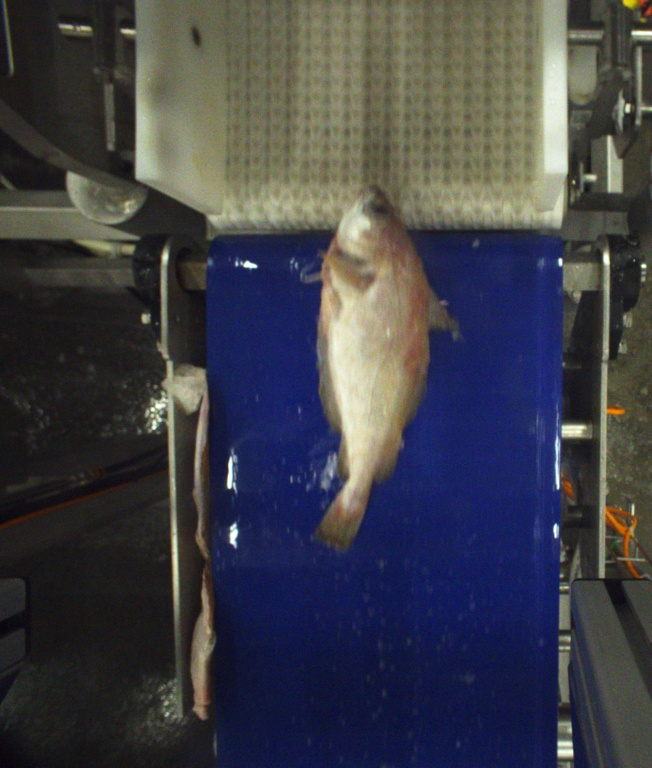BIB: (314, 184, 461, 550)
